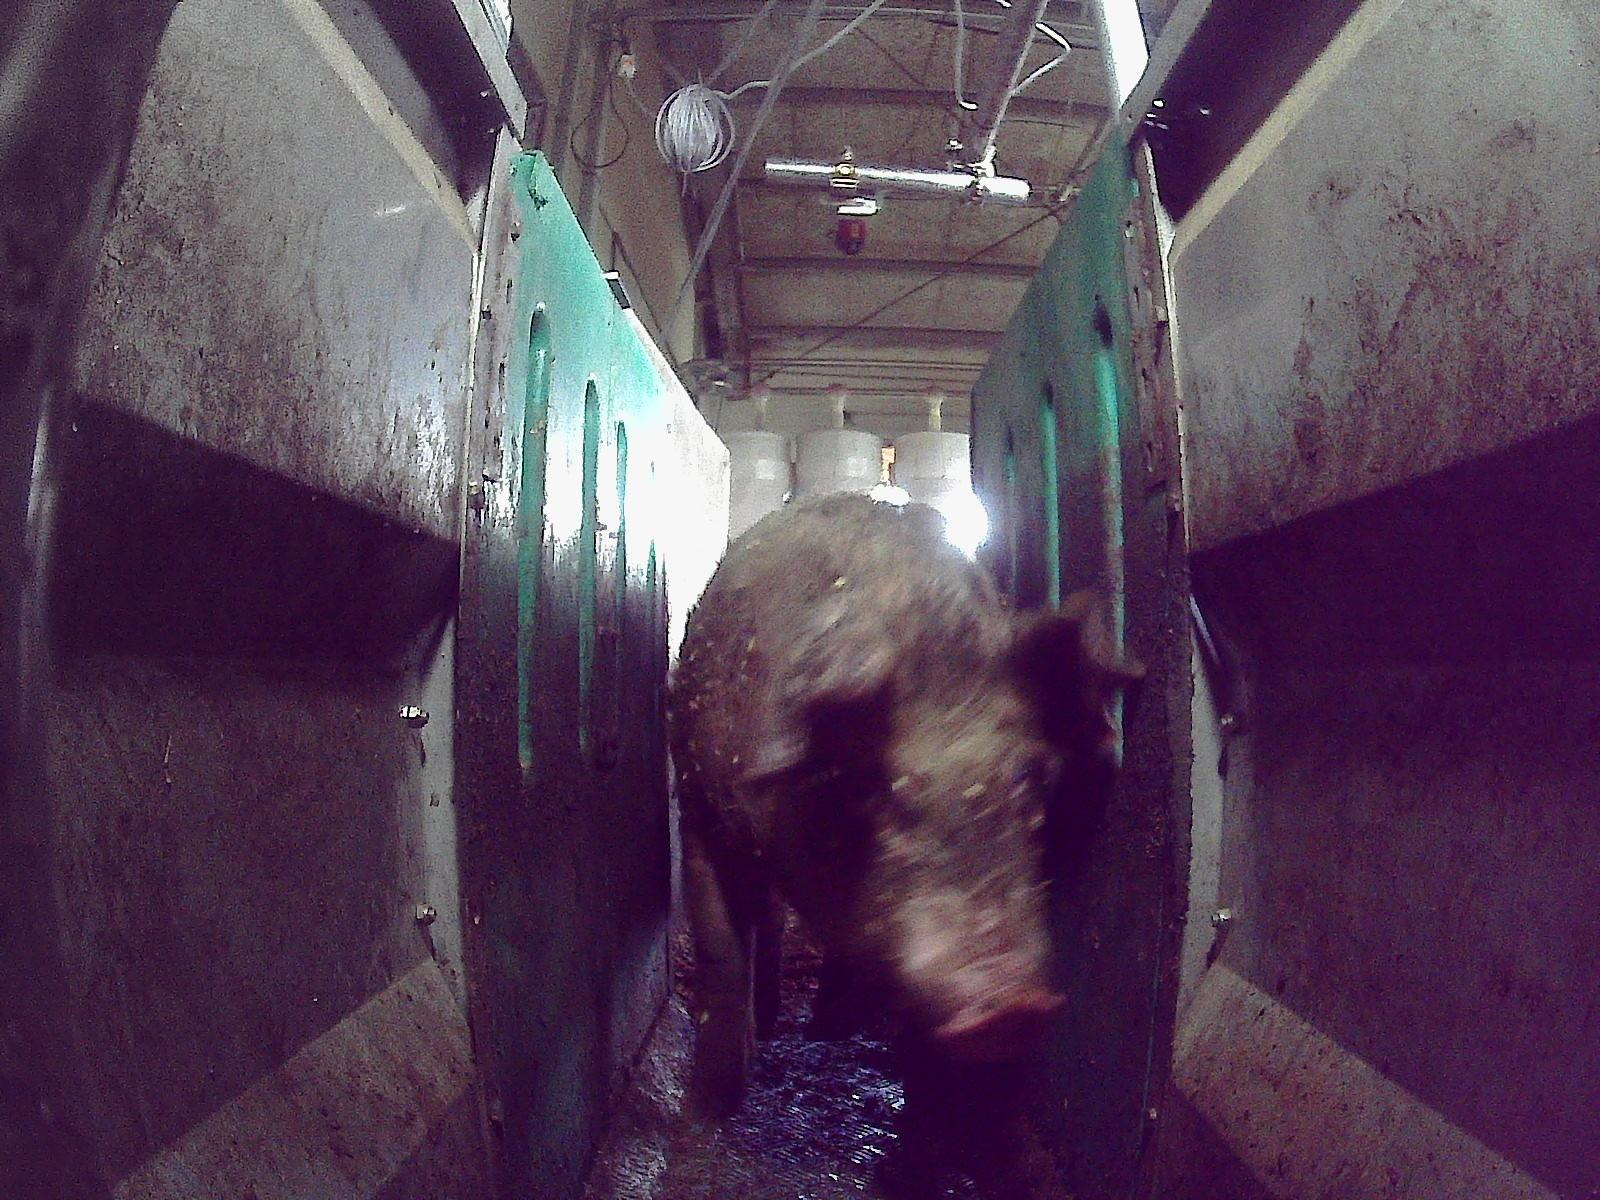Face: (794, 618, 1070, 1062)
